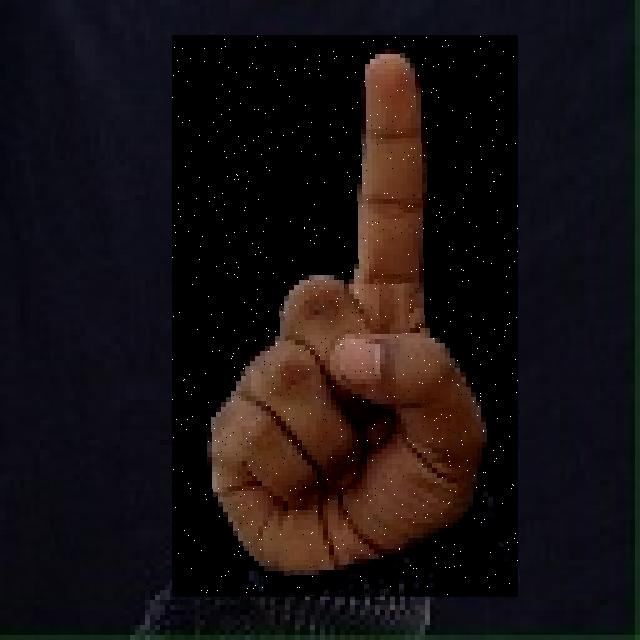IloveYou: (172, 35, 518, 597)
